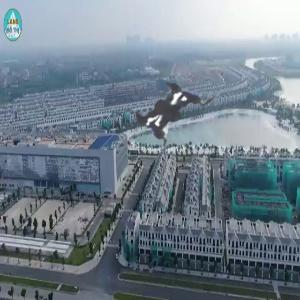drone: (94, 36, 253, 195)
